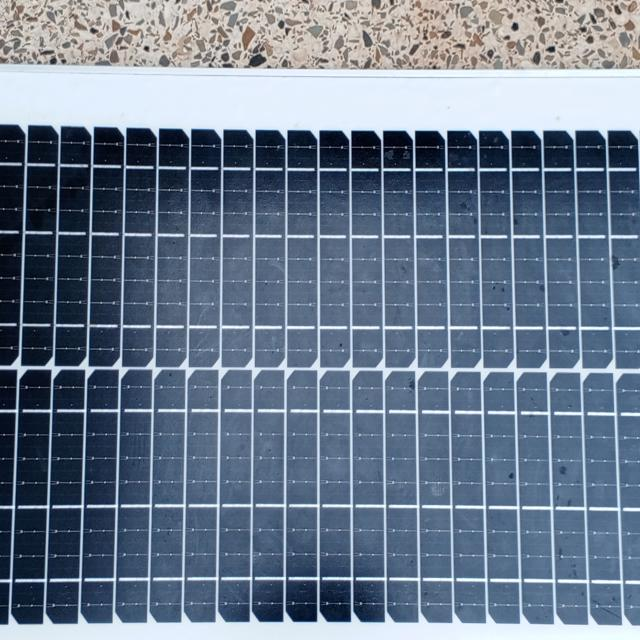Clean: (1, 93, 640, 637)
